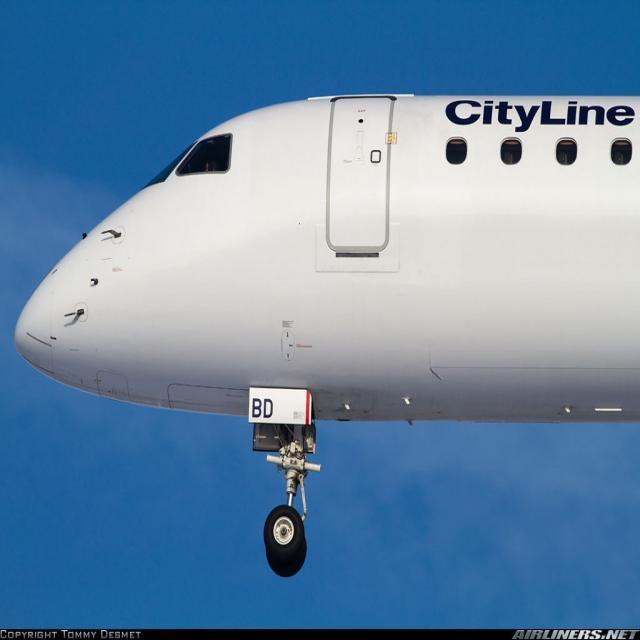crack: (432, 368, 450, 384)
